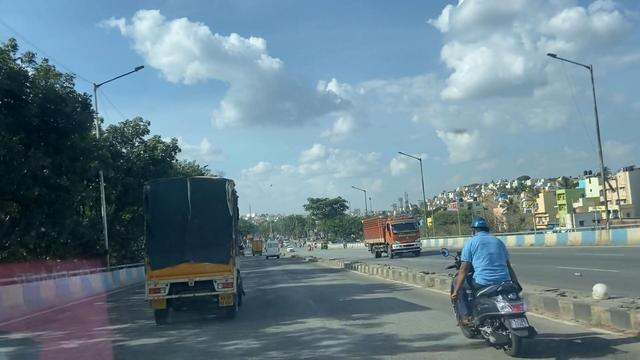HMV: (124, 173, 244, 315)
LMV: (435, 215, 525, 342)
